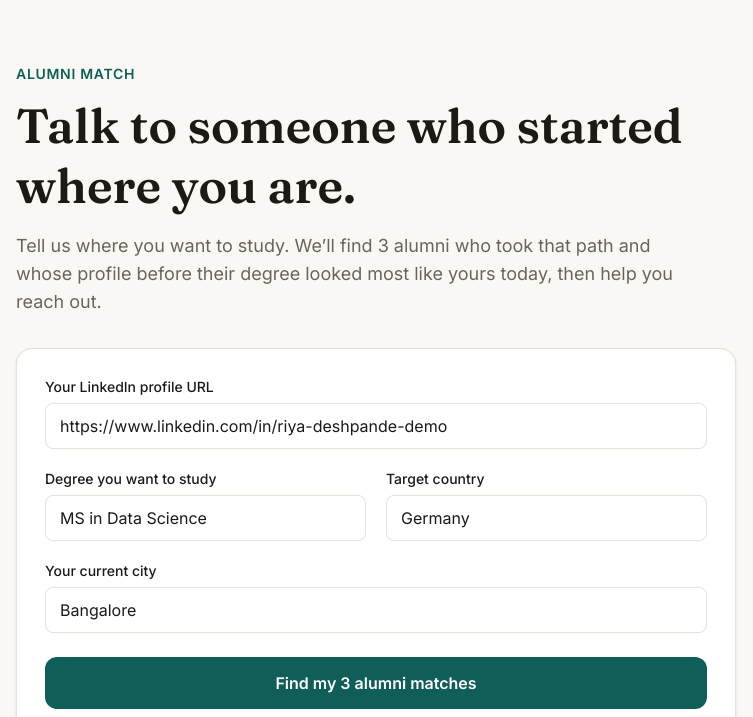
daily limit (3 new alumni per day, demo-only, in localStorage) › blocks a search for different alumni once the limit is used, with a friendly explanation and a demo reset
Click the button "Find my 3 alumni matches".
click(376, 683)  # box [45,657,707,709]
(page scrolled)
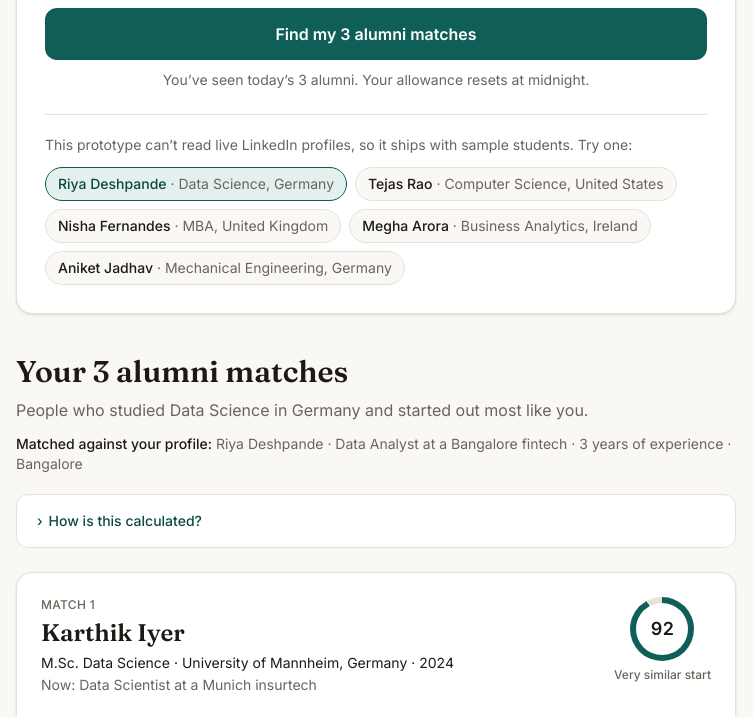
Click the button "Aniket Jadhav · Mechanical Engineering, Germany".
click(225, 268)  # box [45,251,405,285]
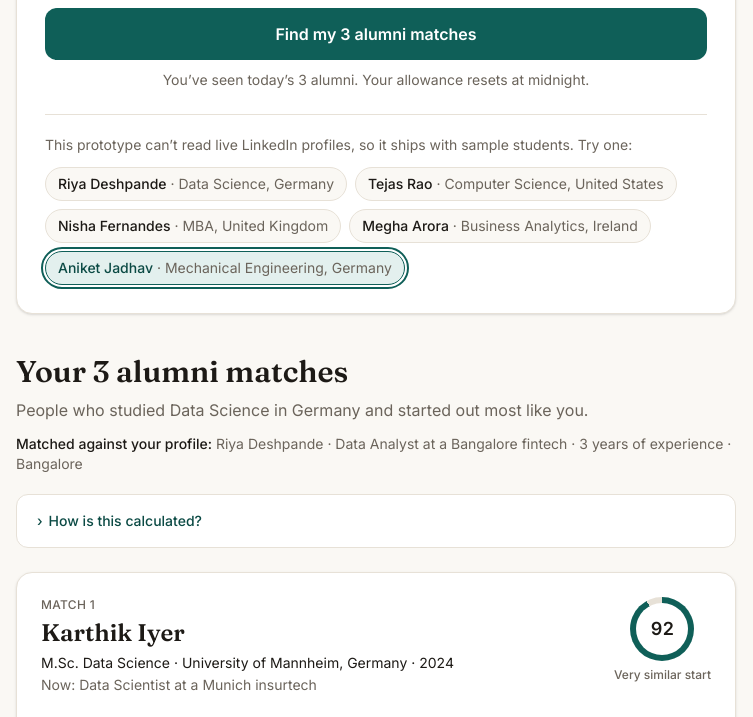
Click the button "Find my 3 alumni matches".
click(376, 34)  # box [45,8,707,60]
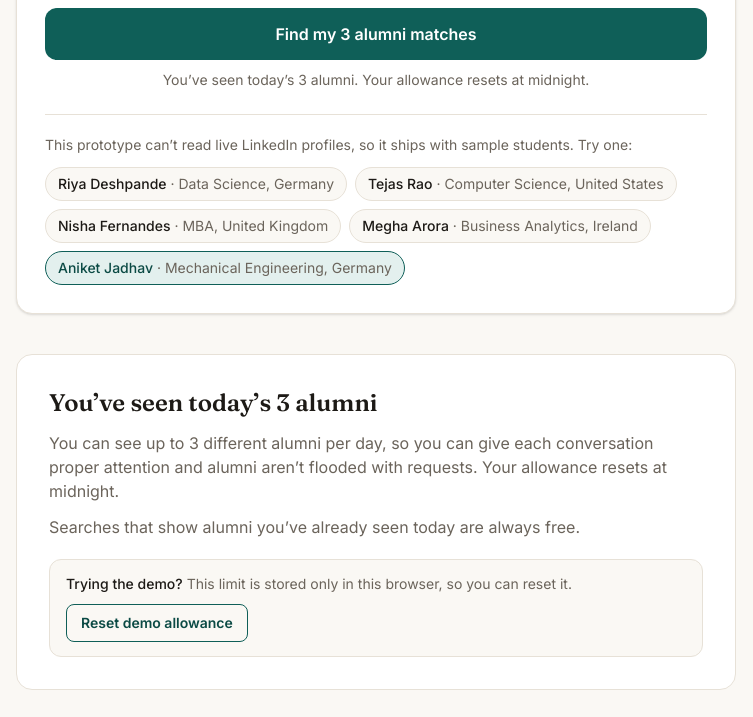
Result: the text "resets at midnight" is shown at [49,433,667,501]
Result: the text "already seen today are always free" is shown at [49,517,580,537]
Click the button "Reset demo allowance".
click(157, 623)  # box [66,604,248,642]
(page scrolled)
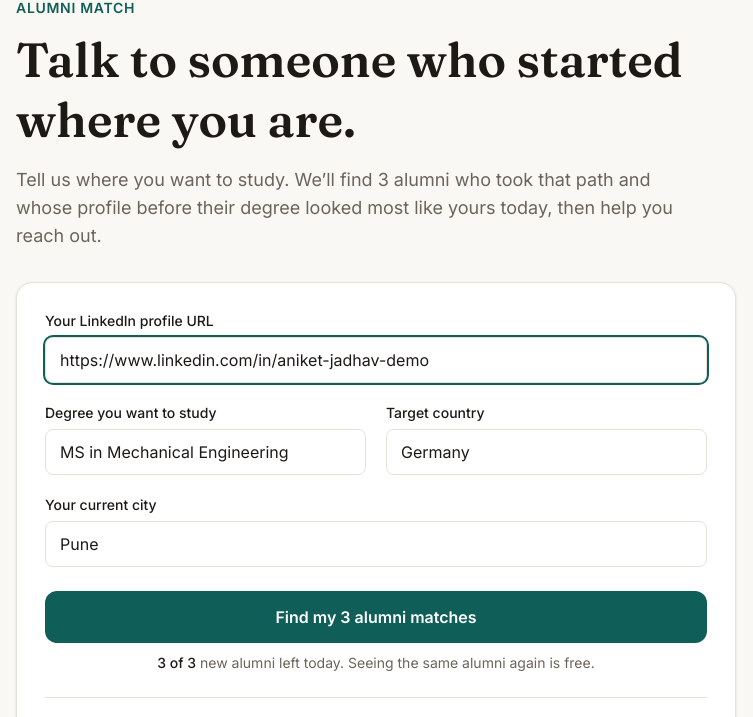
Result: the text "3 of 3 new alumni left today" is shown at [157,654,595,671]
Result: the text "You’ve seen today’s 3 alumni" is gone
Click the button "Find my 3 alumni matches".
click(376, 617)  # box [45,591,707,643]
(page scrolled)
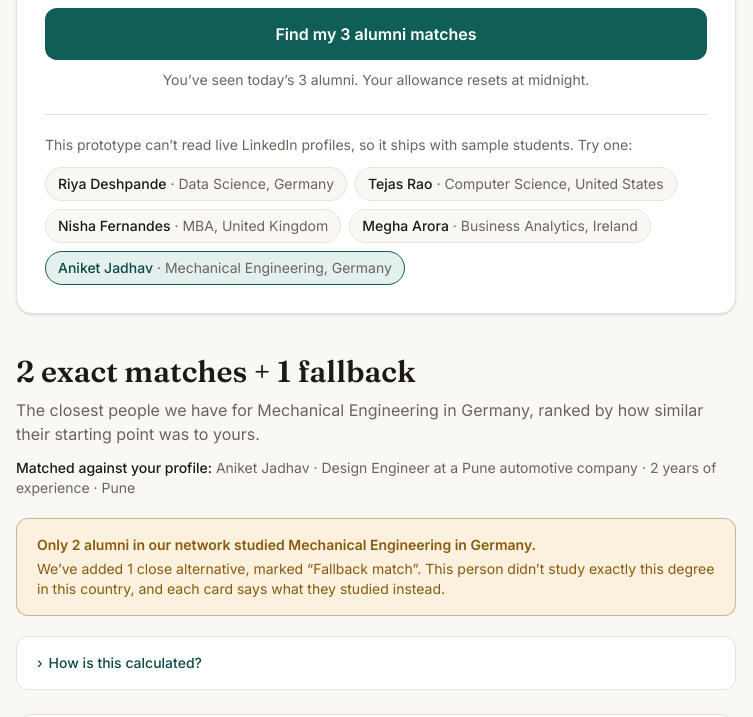
Result: the heading "2 exact matches + 1 fallback" is shown at [16,353,416,390]
